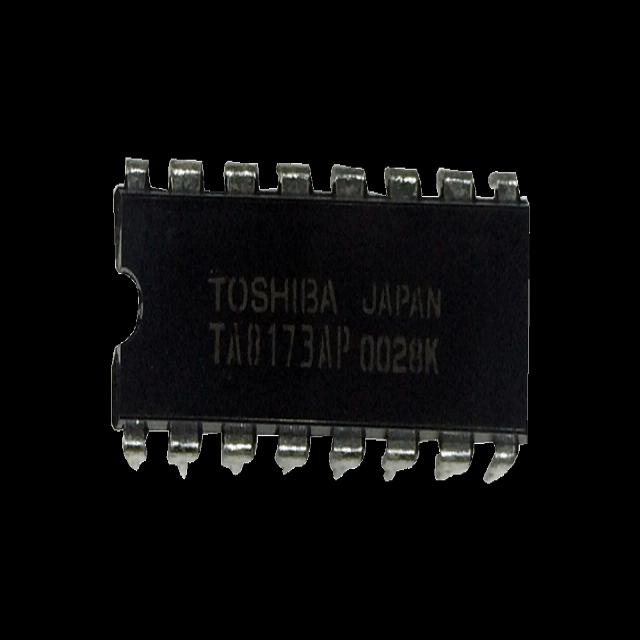IC: (98, 146, 537, 484)
